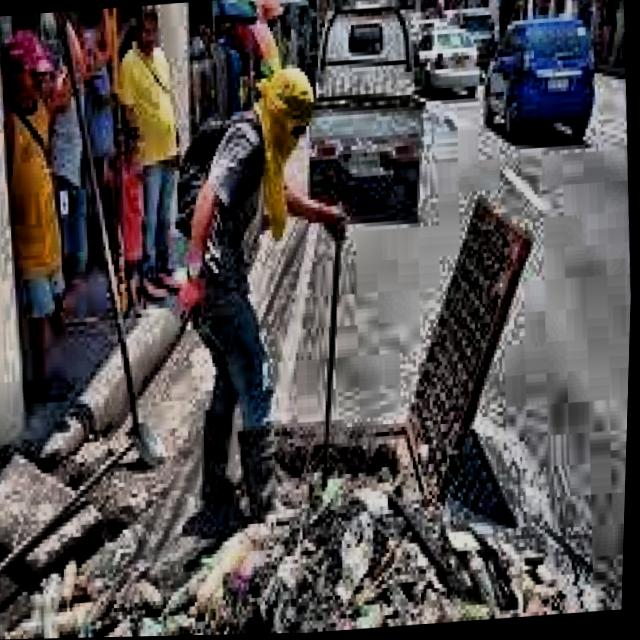clogged_drains: (240, 419, 431, 553)
